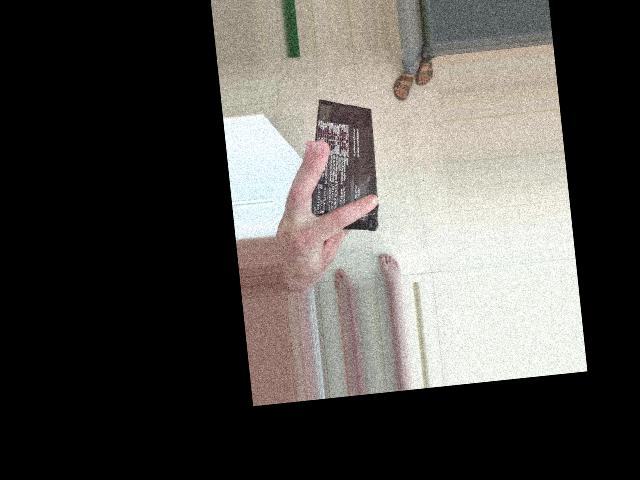chocolate: (309, 108, 450, 194)
